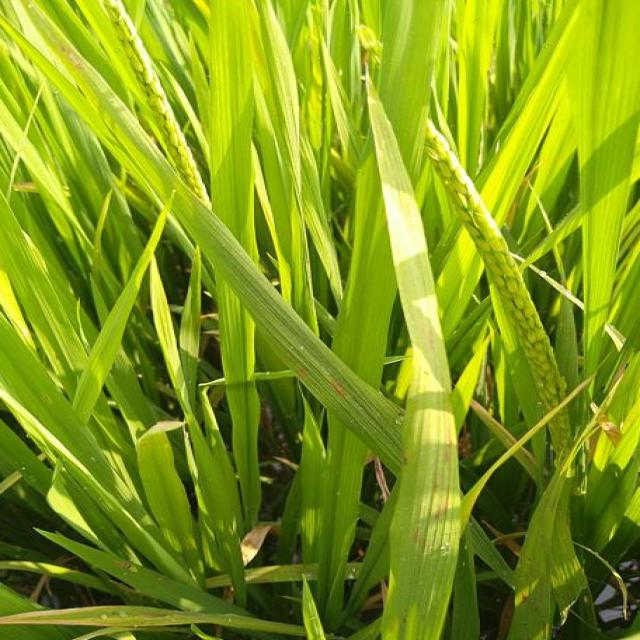Leaf Blight: (0, 605, 201, 627), (241, 524, 278, 567)
Leaf Streak: (368, 76, 460, 552), (324, 377, 349, 399), (293, 362, 312, 377)
